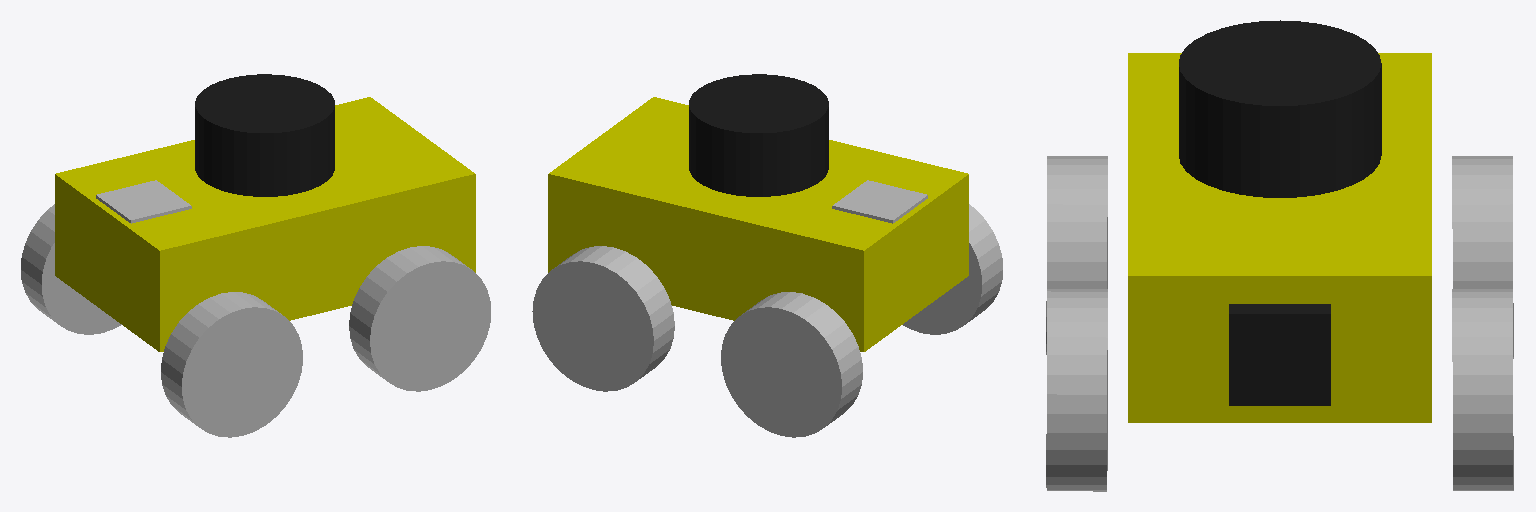
robot.urdf — rubot:
<?xml version="1.0" encoding="utf-8"?>
<!-- =================================================================================== -->
<!-- |    This document was autogenerated by xacro from rubot_mecanum.xacro            | -->
<!-- |    EDITING THIS FILE BY HAND IS NOT RECOMMENDED                                 | -->
<!-- =================================================================================== -->
<robot name="rubot">
  <material name="yellow">
    <color rgba="0.8 0.8 0.0 1.0"/>
  </material>
  <material name="black">
    <color rgba="0.15 0.15 0.15 1.0"/>
  </material>
  <material name="dark_grey">
    <color rgba="0.2 0.2 0.2 1.0"/>
  </material>
  <material name="light_grey">
    <color rgba="0.75 0.75 0.75 1.0"/>
  </material>

<!-- base_footprint reference frame without inertia is needed -->
  <link name="base_footprint"/>
<!-- base_link -->
  <joint name="base_link_joint" type="fixed">
    <origin rpy="0 0 0" xyz="0 0 0.05"/>
    <parent link="base_footprint"/>
    <child link="base_link"/>
  </joint>
  <link name="base_link">
    <visual>
      <origin rpy="0 0 0" xyz="0 0 0.05"/>
      <geometry>
        <!-- <mesh filename="package://robot_description/meshes/base_link.stl" scale="0.001 0.001 0.001"/>-->
        <box size="0.26 0.15 0.08"/>
      </geometry>
      <material name="yellow"/>
    </visual>
    <collision>
      <origin xyz="0 0 0"/>
      <geometry>
        <box size="0.26 0.15 0.1"/>
      </geometry>
    </collision>
    <inertial>
      <origin rpy="0 0 0" xyz="0 0 0.05"/>
      <mass value="5"/>
      <inertia ixx="0.01" ixy="0" ixz="0" iyy="0.01" iyz="0" izz="0.01"/>
    </inertial>
  </link>
<!-- upper_left_wheel -->
  <joint name="upper_left_wheel_joint" type="continuous">
    <origin rpy="0 0 0" xyz="0.07 0.1 0"/>
    <parent link="base_link"/>
    <child link="upper_left_wheel"/>
    <axis xyz="0 1 0"/>
  </joint>
  <link name="upper_left_wheel">
    <visual>
      <!--<origin rpy="0 0 0" xyz="0 0 0"/>-->
      <origin rpy="-1.57 0 0" xyz="0 0 0"/>
      <geometry>
        <!-- <mesh filename="package://robot_description/meshes/upper_left_wheel.stl" scale="0.001 0.001 0.001"/>-->
        <cylinder length="0.03" radius="0.05"/>
      </geometry>
      <material name="light_grey"/>
    </visual>
    <collision>
      <origin rpy="-1.57 0 0" xyz="0 0 0"/>
      <geometry>
        <cylinder length="0.03" radius="0.05"/>
      </geometry>
    </collision>
    <inertial>
      <mass value="0.2"/>
      <inertia ixx="0.000166" ixy="0" ixz="0" iyy="0.000303" iyz="0" izz="0.000166"/>
    </inertial>
  </link>
<!-- lower_left_wheel -->
  <joint name="lower_left_wheel_joint" type="continuous">
    <origin rpy="0 0 0" xyz="-0.085 0.1 0"/>
    <parent link="base_link"/>
    <child link="lower_left_wheel"/>
    <axis xyz="0 1 0"/>
  </joint>
  <link name="lower_left_wheel">
    <visual>
      <!--<origin rpy="0 0 0" xyz="0 0 0"/>-->
      <origin rpy="-1.57 0 0" xyz="0 0 0"/>
      <geometry>
        <!--<mesh filename="package://robot_description/meshes/lower_left_wheel.stl" scale="0.001 0.001 0.001"/>-->
        <cylinder length="0.03" radius="0.05"/>
      </geometry>
      <material name="light_grey"/>
    </visual>
    <collision>
      <origin rpy="-1.57 0 0" xyz="0 0 0"/>
      <geometry>
        <cylinder length="0.03" radius="0.05"/>
      </geometry>
    </collision>
    <inertial>
      <mass value="0.2"/>
      <inertia ixx="0.000166" ixy="0" ixz="0" iyy="0.000303" iyz="0" izz="0.000166"/>
    </inertial>
  </link>
<!-- upper_right_wheel -->
  <joint name="upper_right_wheel_joint" type="continuous">
    <origin rpy="0 0 3.14" xyz="0.07 -0.1 0"/>
    <parent link="base_link"/>
    <child link="upper_right_wheel"/>
    <axis xyz="0 -1 0"/>
  </joint>
  <link name="upper_right_wheel">
    <visual>
      <!--<origin rpy="0 0 0" xyz="0 0 0"/>-->
      <origin rpy="-1.57 0 0" xyz="0 0 0"/>
      <geometry>
        <!--<mesh filename="package://robot_description/meshes/upper_right_wheel.stl" scale="0.001 0.001 0.001"/>-->
        <cylinder length="0.03" radius="0.05"/>
      </geometry>
      <material name="light_grey"/>
    </visual>
    <collision>
      <origin rpy="-1.57 0 0" xyz="0 0 0"/>
      <geometry>
        <cylinder length="0.03" radius="0.05"/>
      </geometry>
    </collision>
    <inertial>
      <mass value="0.2"/>
      <inertia ixx="0.000166" ixy="0" ixz="0" iyy="0.000303" iyz="0" izz="0.000166"/>
    </inertial>
  </link>
<!-- lower_right_wheel -->
  <joint name="lower_right_wheel_joint" type="continuous">
    <origin rpy="0 0 3.14" xyz="-0.085 -0.1 0"/>
    <parent link="base_link"/>
    <child link="lower_right_wheel"/>
    <axis xyz="0 -1 0"/>
  </joint>
  <link name="lower_right_wheel">
    <visual>
      <!--<origin rpy="0 0 0" xyz="0 0 0"/>-->
      <origin rpy="-1.57 0 0" xyz="0 0 0"/>
      <geometry>
        <!--<mesh filename="package://robot_description/meshes/lower_right_wheel.stl" scale="0.001 0.001 0.001"/>-->
        <cylinder length="0.03" radius="0.05"/>
      </geometry>
      <material name="light_grey"/>
    </visual>
    <collision>
      <origin rpy="-1.57 0 0" xyz="0 0 0"/>
      <geometry>
        <cylinder length="0.03" radius="0.05"/>
      </geometry>
    </collision>
    <inertial>
      <mass value="0.2"/>
      <inertia ixx="0.000166" ixy="0" ixz="0" iyy="0.000303" iyz="0" izz="0.000166"/>
    </inertial>
  </link> -->
<!-- 2D Camera as a mesh of actual PiCamera -->
  <joint name="joint_camera" type="fixed">
    <origin rpy="0 0 0" xyz="0.130 0.0 0.05"/>
    <parent link="base_link"/>
    <child link="camera"/>
    <axis xyz="0 1 0"/>
  </joint>
  <link name="camera">
    <visual>
      <!--<origin rpy="0 0 0" xyz="0 0 0"/>-->
      <origin rpy="0 1.57 0" xyz="0 0 0"/>
      <geometry>
        <!--<mesh filename="package://robot_description/meshes/piCamera.stl" scale="0.001 0.001 0.001"/>-->
        <box size="0.05 0.05 0.025"/>
      </geometry>
      <material name="black"/>
    </visual>
    <collision>
      <origin rpy="0 1.57 0" xyz="0 0 0"/>
      <geometry>
        <box size="0.05 0.05 0.025"/>
      </geometry>
    </collision>
    <inertial>
      <origin rpy="0 1.570795 0" xyz="0 0 0"/>
      <mass value="0.01"/>
      <inertia ixx="1e-6" ixy="0" ixz="0" iyy="1e-6" iyz="0" izz="1e-6"/>
    </inertial>
  </link>
  <!-- LIDAR base_scan -->
  <link name="base_scan">
    <visual>
      <origin rpy="0 0 3.14" xyz="0 0 0"/>
      <geometry>
        <!--<mesh filename="package://robot_description/meshes/Lidar.stl" scale="0.001 0.001 0.001"/>-->
        <cylinder length="0.05" radius="0.05"/>
      </geometry>
      <material name="black"/>
    </visual>
    <collision>
      <origin rpy="0 0 0" xyz="0 0 0"/>
      <geometry>
        <cylinder length="0.05" radius="0.05"/>
      </geometry>
    </collision>
    <inertial>
      <origin rpy="0 0 0" xyz="0 0 0"/>
      <mass value="0.05"/>
      <inertia ixx="0.001" ixy="0.0" ixz="0.0" iyy="0.001" iyz="0.0" izz="0.001"/>
    </inertial>
  </link>
  <joint name="scan_joint" type="fixed">
    <axis xyz="0 0 1"/>
    <origin rpy="0 0 3.14" xyz="0 0 0.12"/>
    <parent link="base_link"/>
    <child link="base_scan"/>
  </joint>
  <!-- Box part -->
  <joint name="joint_part" type="fixed">
    <origin rpy="0 0 0" xyz="-0.10 0.0 0.08"/>
    <parent link="base_link"/>
    <child link="part"/>
  </joint>
  <link name="part">
    <visual>
      <origin rpy="0 0 0" xyz="0 0 0"/>
      <geometry>
        <!--<mesh filename="package://robot_description/meshes/number2.stl" scale="0.0008 0.0008 0.0008"/>-->
        <box size="0.05 0.05 0.025"/>
      </geometry>
      <material name="light_grey"/>
    </visual>
    <collision>
      <origin rpy="0 0 0" xyz="0 0 0"/>
      <geometry>
        <box size="0.05 0.05 0.025"/>
      </geometry>
    </collision>
    <inertial>
      <mass value="0.01"/>
      <inertia ixx="1e-6" ixy="0" ixz="0" iyy="1e-6" iyz="0" izz="1e-6"/>
    </inertial>
  </link>
  <!-- Mecanum drive controller -->
  <gazebo>
    <plugin name="mecanum_controller" filename="libgazebo_ros_omni_drive.so">
      <commandTopic>cmd_vel</commandTopic>
      <odometryTopic>odom</odometryTopic>
      <odometryFrame>odom</odometryFrame>
      <odometryRate>20.0</odometryRate>
      <robotBaseFrame>base_footprint</robotBaseFrame>
      <wheel_radius>0.04</wheel_radius>
      <base_length>0.65</base_length>
      <base_width>0.65</base_width>
      <front_left_joint>upper_left_wheel_joint</front_left_joint>
      <front_right_joint>upper_right_wheel_joint</front_right_joint>
      <rear_left_joint>lower_left_wheel_joint</rear_left_joint>
      <rear_right_joint>lower_right_wheel_joint</rear_right_joint>
      <wheel_max_speed> 20.0 </wheel_max_speed>
      <wheel_acceleration> 10.0</wheel_acceleration>
      <joint_config>1 1 1 1</joint_config>
    </plugin>
  </gazebo>
  <!-- 2D Camera controller -->
  <gazebo reference="camera">
    <sensor name="camera1" type="camera">
      <update_rate>30.0</update_rate>
      <camera name="front">
        <horizontal_fov>1.3962634</horizontal_fov>
        <image>
          <width>320</width>
          <height>240</height>
          <format>R8G8B8</format>
        </image>
        <clip>
          <near>0.02</near>
          <far>300</far>
        </clip>
      </camera>
      <plugin filename="libgazebo_ros_camera.so" name="camera_controller">
        <alwaysOn>true</alwaysOn>
        <visualize>false</visualize>
        <cameraName>rubot/camera1</cameraName>
        <imageTopicName>image_raw</imageTopicName>
        <cameraInfoTopicName>camera_info</cameraInfoTopicName>
        <frameName>camera</frameName>
        <hackBaseline>0.07</hackBaseline>
        <distortionK1>0.0</distortionK1>
        <distortionK2>0.0</distortionK2>
        <distortionK3>0.0</distortionK3>
        <distortionT1>0.0</distortionT1>
        <distortionT2>0.0</distortionT2>
      </plugin>
    </sensor>
  </gazebo>
  <!-- Laser Distance Sensor YDLIDAR X4 controller-->
  <gazebo reference="base_scan">
    <sensor name="lidar" type="ray">
    <pose>0.215 0 0.215 0 0 0</pose>
    <always_on>true</always_on>
    <visualize>false</visualize>
    <update_rate>5</update_rate>
    <ray>
      <scan>
        <horizontal>
          <samples>720</samples>
          <resolution>1.00000</resolution>
          <min_angle>0.000000</min_angle>
          <max_angle>6.280000</max_angle>
        </horizontal>
      </scan>
      <range>
        <min>0.120000</min>
        <max>3.5</max>
        <resolution>0.015000</resolution>
      </range>
      <noise>
        <type>gaussian</type>
        <mean>0.0</mean>
        <stddev>0.01</stddev>
      </noise>
    </ray>
    <plugin name="scan" filename="libgazebo_ros_ray_sensor.so">
      <ros>
        <remapping>~/out:=scan</remapping>
      </ros>
      <output_type>sensor_msgs/LaserScan</output_type>
      <frame_name>base_scan</frame_name>
    </plugin>
    </sensor>
  </gazebo>
<!-- Gazebo colors have to be specified here with predefined Gazebo colors -->
<!-- lower friction with floor -->
  <gazebo reference="base_link">
    <material>Gazebo/Yellow</material>
    <mu1>0.005</mu1>
    <mu2>0.005</mu2>
  </gazebo>
  <gazebo reference="base_scan">
    <material>Gazebo/DarkGrey</material>
  </gazebo>
  <gazebo reference="camera">
    <material>Gazebo/Green</material>
  </gazebo>
  <gazebo reference="part">
    <material>Gazebo/Red</material>
  </gazebo>
  <gazebo reference="upper_left_wheel">
    <material>Gazebo/Grey</material>
    <mu1>0.5</mu1>
    <mu2>0.5</mu2>
    <kp>1000</kp>
    <ki>100</ki>
    <kd>1</kd>
    <minDepth>0.001</minDepth>
    <maxVel>0.5</maxVel>
    <fdir1>1 0 0</fdir1>
  </gazebo>
  <gazebo reference="lower_left_wheel">
    <material>Gazebo/Grey</material>
    <mu1>0.5</mu1>
    <mu2>0.5</mu2>
    <kp>1000</kp>
    <ki>100</ki>
    <kd>1</kd>
    <minDepth>0.001</minDepth>
    <maxVel>0.5</maxVel>
    <fdir1>1 0 0</fdir1>
  </gazebo>
  <gazebo reference="upper_right_wheel">
    <material>Gazebo/Grey</material>
    <mu1>0.5</mu1>
    <mu2>0.5</mu2>
    <kp>1000</kp>
    <ki>100</ki>
    <kd>1</kd>
    <minDepth>0.001</minDepth>
    <maxVel>0.5</maxVel>
    <fdir1>1 0 0</fdir1>
  </gazebo>
  <gazebo reference="lower_right_wheel">
    <material>Gazebo/Grey</material>
    <mu1>0.5</mu1>
    <mu2>0.5</mu2>
    <kp>1000</kp>
    <ki>100</ki>
    <kd>1</kd>
    <minDepth>0.001</minDepth>
    <maxVel>0.5</maxVel>
    <fdir1>1 0 0</fdir1>
  </gazebo>
</robot>

--- Render facts (derived) ---
3 views of the same robot in one strip: view 1: azimuth 30°, elevation 25°; view 2: azimuth 150°, elevation 25°; view 3: azimuth 270°, elevation 25° (orthographic).
Robot: rubot — 9 links, 8 joints (4 continuous, 4 fixed); root link base_footprint; default pose: all joints at 0.
Visible links, largest first — view 1: base_link, upper_right_wheel, lower_right_wheel, base_scan, lower_left_wheel, part; view 2: base_link, lower_left_wheel, upper_left_wheel, base_scan, lower_right_wheel, part; view 3: base_link, base_scan, upper_right_wheel, upper_left_wheel, camera, lower_right_wheel, lower_left_wheel.
Boxes of the visible links, <box> form: base_link: <box>55,97,475,351</box>; upper_right_wheel: <box>349,246,490,391</box>; lower_right_wheel: <box>161,292,302,437</box>; base_scan: <box>195,74,334,196</box>; lower_left_wheel: <box>21,204,121,334</box>; part: <box>96,180,191,223</box>; base_link: <box>548,97,968,351</box>; lower_left_wheel: <box>721,292,862,437</box>; upper_left_wheel: <box>532,246,674,391</box>; base_scan: <box>689,74,828,196</box>; lower_right_wheel: <box>903,204,1002,334</box>; part: <box>832,180,927,223</box>; base_link: <box>1128,53,1431,422</box>; base_scan: <box>1179,20,1381,197</box>; upper_right_wheel: <box>1046,289,1107,491</box>; upper_left_wheel: <box>1452,289,1513,490</box>; camera: <box>1229,304,1330,405</box>; lower_right_wheel: <box>1046,156,1107,354</box>; lower_left_wheel: <box>1452,156,1513,358</box>.
Size in the robot's own frame: 0.2775 by 0.2301 by 0.195 metres.
Geometry: primitives only (box / cylinder / sphere), no mesh files.
